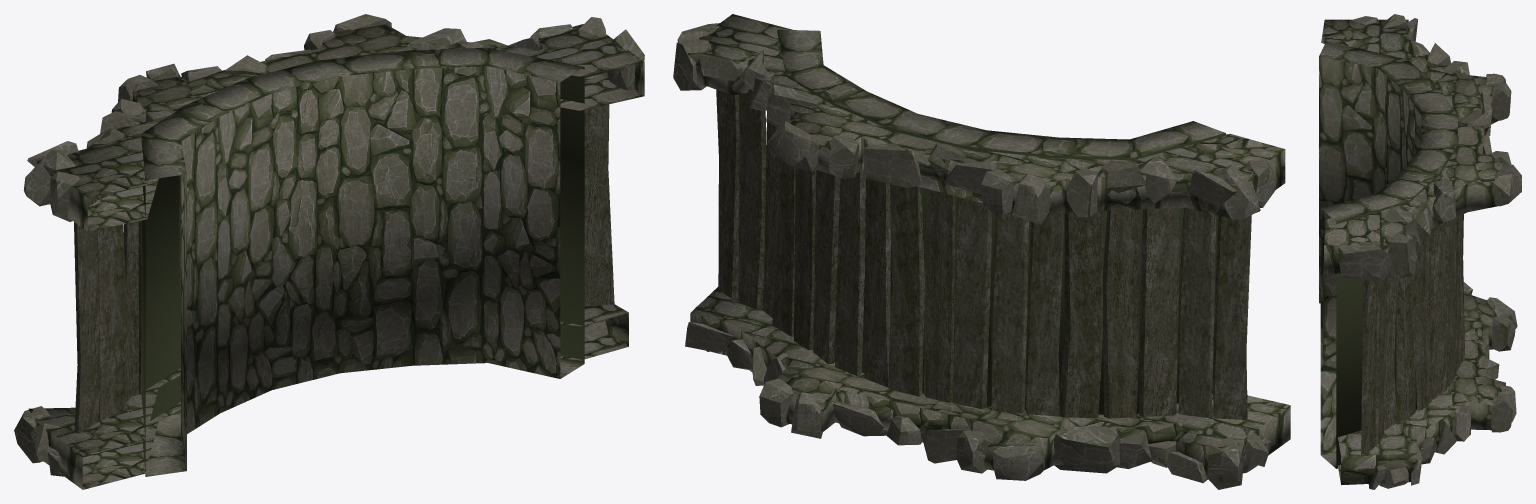
Rendered from TI_Small_StoneBridge_01.fbx.
3 renders of one model, left to right at view 1: azimuth 30°, elevation 25°; view 2: azimuth 150°, elevation 25°; view 3: azimuth 270°, elevation 25°, orthographic. The views are drawn at different scales.
Visible parts, largest first — view 1: TI_Small_StoneBridge_01, TI_Small_StoneBridge_Wood_01; view 2: TI_Small_StoneBridge_Wood_01, TI_Small_StoneBridge_01; view 3: TI_Small_StoneBridge_01, TI_Small_StoneBridge_Wood_01.
Part boxes in pixels (x1=…): TI_Small_StoneBridge_01: x1=14, y1=14, x2=644, y2=489; TI_Small_StoneBridge_Wood_01: x1=74, y1=78, x2=614, y2=433; TI_Small_StoneBridge_Wood_01: x1=716, y1=89, x2=1251, y2=419; TI_Small_StoneBridge_01: x1=673, y1=14, x2=1290, y2=489; TI_Small_StoneBridge_01: x1=1319, y1=14, x2=1521, y2=489; TI_Small_StoneBridge_Wood_01: x1=1361, y1=214, x2=1464, y2=455.
Bounding box in the file's own units: 8.43 × 4.34 × 3.01.
